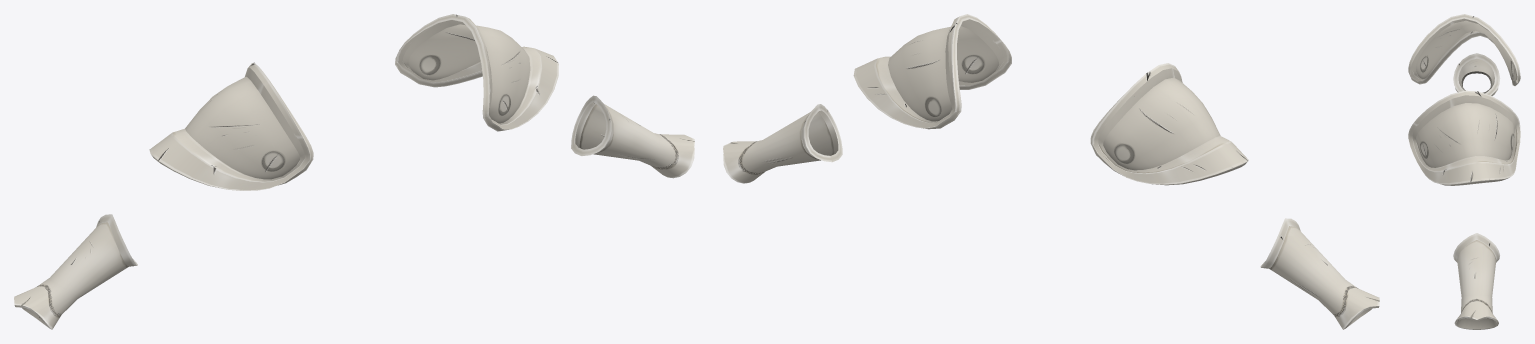
File: amorarm.glb
3 renders of one model, left to right at view 1: azimuth 30°, elevation 25°; view 2: azimuth 150°, elevation 25°; view 3: azimuth 270°, elevation 25°, orthographic. The views are drawn at different scales.
Parts seen in each view (by area): view 1: amorarm; view 2: amorarm; view 3: amorarm.
Part boxes in pixels (x1,y1,x2,y2): amorarm: (14,14,694,329); amorarm: (723,14,1379,329); amorarm: (1408,14,1520,329).
Bounding box in the file's own units: 1.17 × 0.3531 × 0.2203.
1 material, 1 textured.
